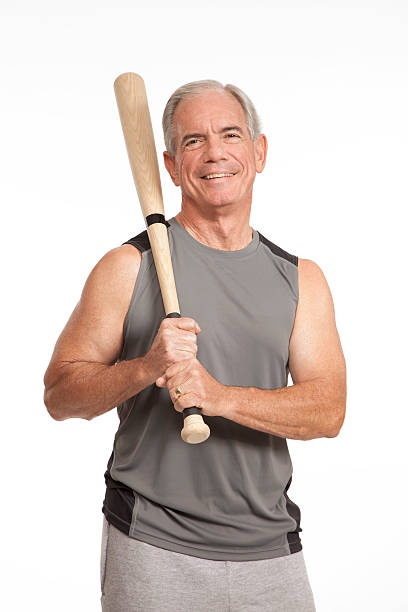bita: (114, 68, 202, 445)
